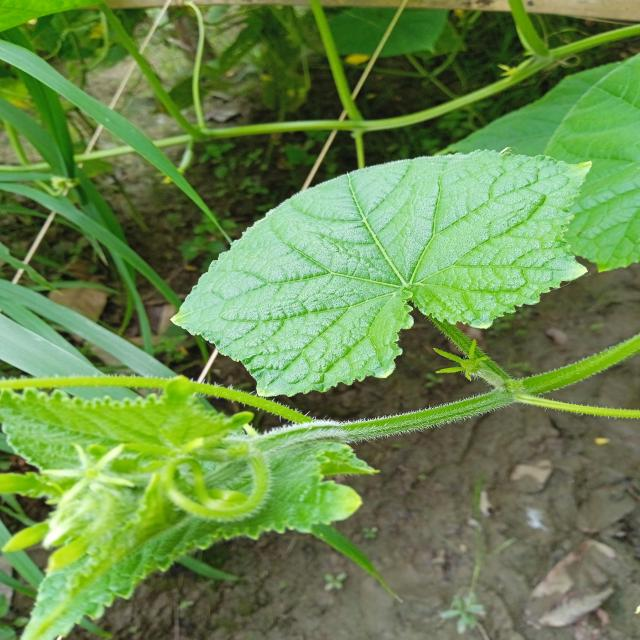cucumber_healthy: (166, 140, 594, 400), (0, 366, 384, 640), (443, 49, 640, 280)
